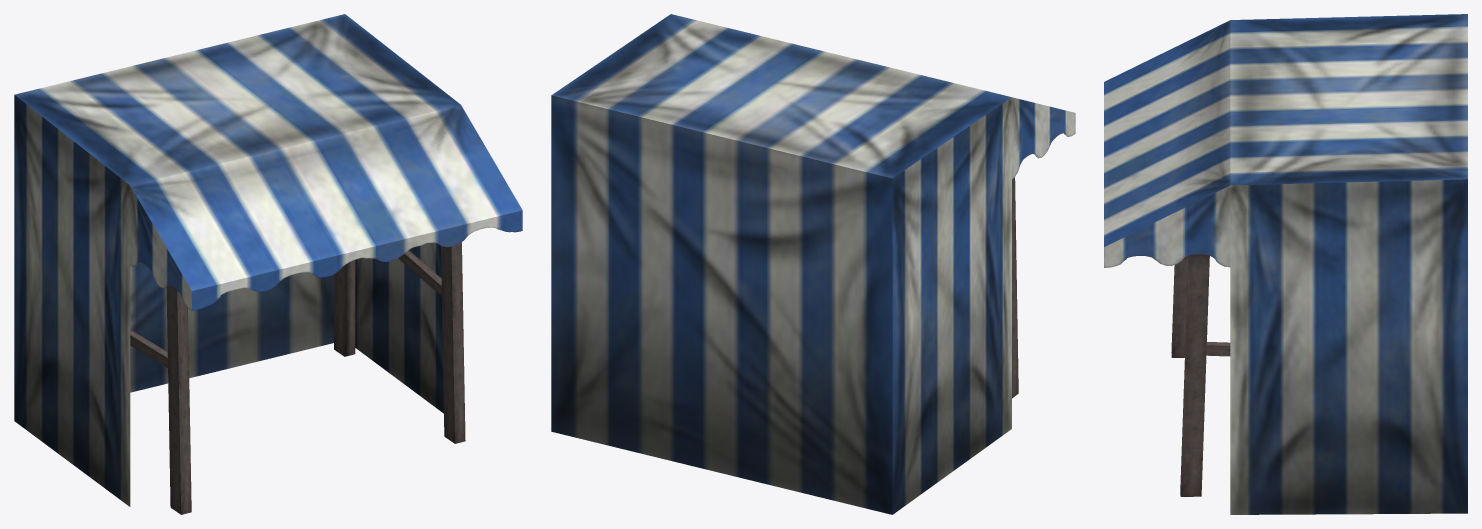
The model's file is blue_cheonmak.FBX.
The picture shows the model from 3 angles, left to right: view 1: azimuth 30°, elevation 25°; view 2: azimuth 150°, elevation 25°; view 3: azimuth 270°, elevation 25°; orthographic projection. The views are drawn at different scales.
Visible parts, largest first — view 1: Object005, Object007, Object010, Object014, Object013, Object001, polySurface21, polySurface20, Object008, polySurface19, Object004, Object009 (+3 smaller); view 2: Object014, Object007, Object010, Object008, Object004, Object009, polySurface21, Object003; view 3: Object013, Object007, Object005, Object011, polySurface20, Object006, Object012, Object002, polySurface21.
Boxes of the visible parts, box(x1,y1,x2,y2) form: Object005: box(130, 105, 522, 290); Object007: box(14, 14, 460, 185); Object010: box(14, 95, 130, 506); Object014: box(130, 262, 333, 392); Object013: box(355, 242, 443, 413); Object001: box(192, 210, 522, 310); polySurface21: box(166, 286, 191, 514); polySurface20: box(441, 242, 465, 443); Object008: box(15, 95, 130, 242); polySurface19: box(334, 260, 355, 356); Object004: box(130, 186, 191, 290); Object009: box(16, 97, 130, 270); Object014: box(551, 95, 892, 514); Object007: box(552, 14, 1011, 178); Object010: box(892, 178, 1011, 514); Object008: box(893, 97, 1011, 178); Object004: box(1012, 97, 1074, 155); Object009: box(893, 156, 1011, 185); polySurface21: box(1012, 177, 1018, 398); Object003: box(1012, 113, 1075, 179); Object013: box(1230, 179, 1467, 514); Object007: box(1230, 14, 1467, 185); Object005: box(1104, 20, 1230, 246); Object011: box(1230, 179, 1466, 243); polySurface20: box(1180, 254, 1209, 496); Object006: box(1104, 186, 1230, 247); Object012: box(1230, 179, 1466, 273); Object002: box(1104, 244, 1230, 267); polySurface21: box(1171, 256, 1188, 357).
Bounding box in the file's own units: 31.07 × 29.44 × 28.88.
